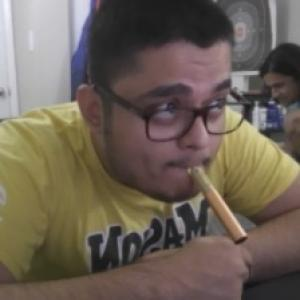Golden-E-Ciggirate: (191, 164, 248, 242)
